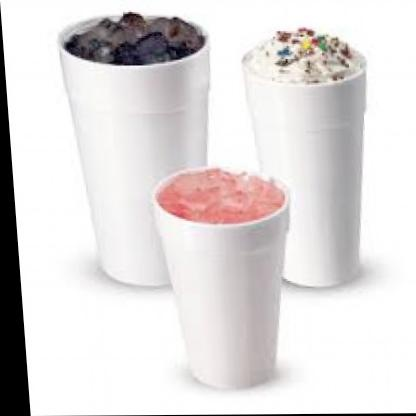trash: (59, 13, 209, 285), (242, 28, 365, 286), (154, 168, 287, 387)
